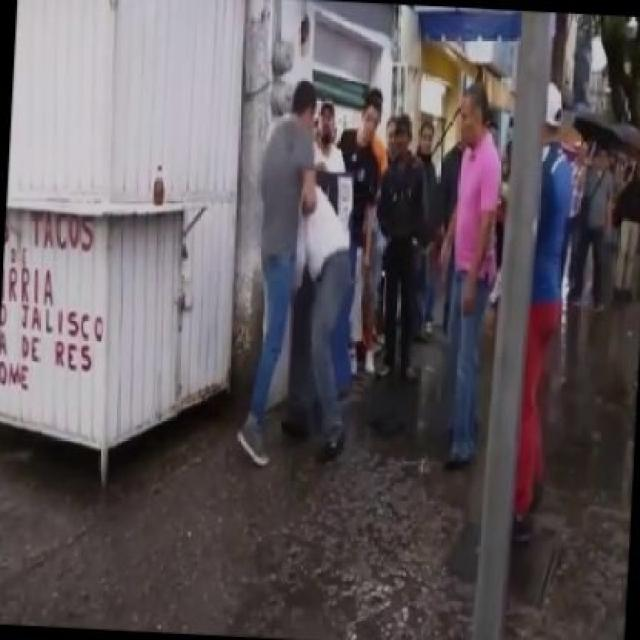fight: (215, 71, 391, 478)
non-fight: (395, 54, 523, 481)
